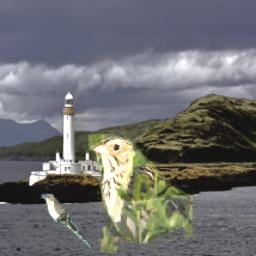Cuckoo: (41, 194, 92, 251)
Sparrow: (90, 135, 194, 254)
